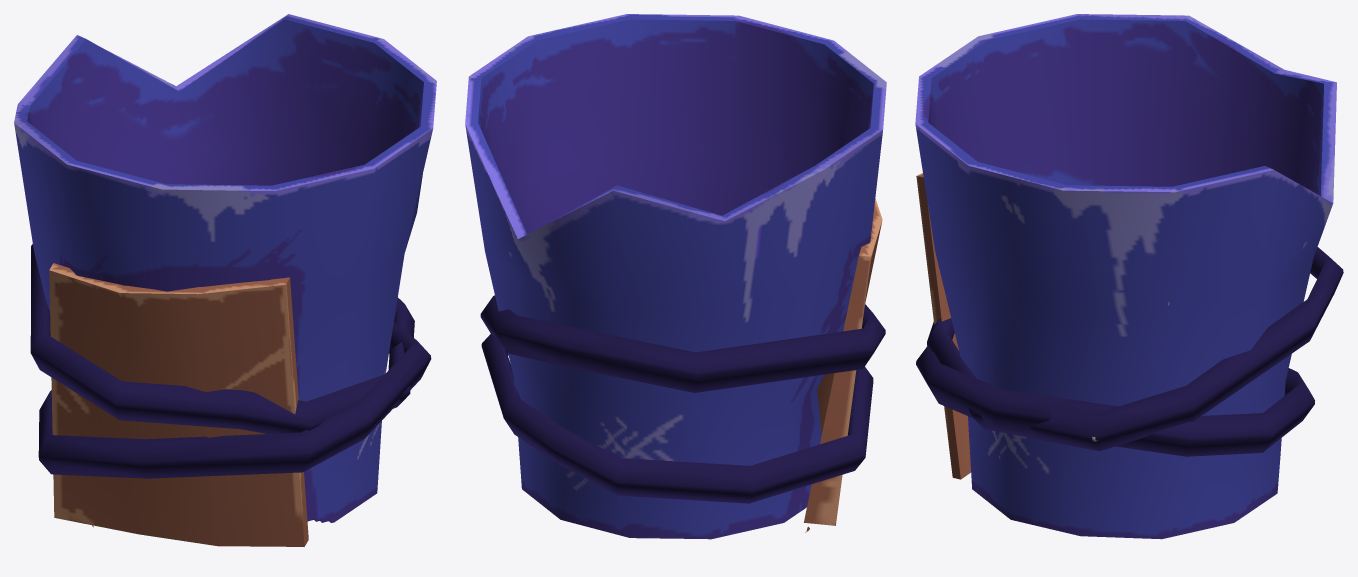
File: Waste_Bin_1.fbx
3 views of the same model, side by side, from view 1: azimuth 30°, elevation 25°; view 2: azimuth 150°, elevation 25°; view 3: azimuth 270°, elevation 25° (orthographic).
Parts seen in each view (by area): view 1: Waste_Bin_1; view 2: Waste_Bin_1; view 3: Waste_Bin_1.
Part boxes in pixels (x1,y1,x2,y2): Waste_Bin_1: (14, 14, 436, 546); Waste_Bin_1: (465, 14, 886, 539); Waste_Bin_1: (915, 14, 1343, 539).
Size of the model in its own units: 0.3428 by 0.3428 by 0.3361.
